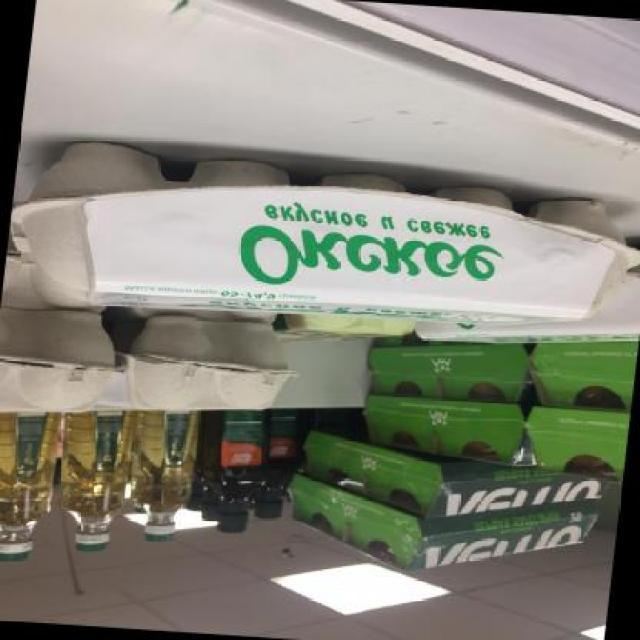egg: (3, 134, 640, 340), (125, 312, 308, 425), (0, 304, 134, 420), (52, 404, 140, 568), (127, 404, 204, 558), (0, 402, 66, 576), (193, 407, 270, 542), (243, 407, 306, 530)
